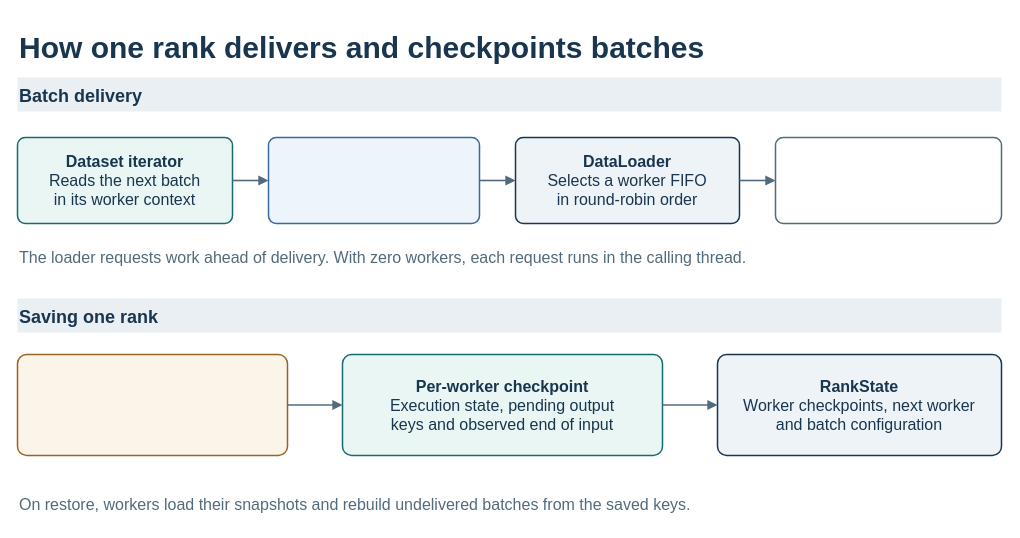
The diagram is 1020 pixels wide and 538 high, and some of its shapes have lost their labels. Each missing label, with the centre of its shape:
Delivery boundary Wait for the active next() before taking the snapshot: the point at 152,404
Optional pinning Pins CPU tensors in a parent thread: the point at 373,180
Training loop Receives the next completed batch: the point at 888,180
